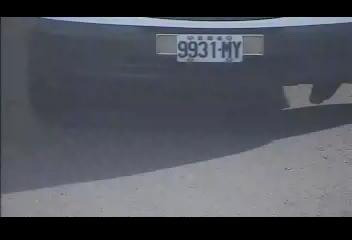plate: (175, 32, 244, 64)
